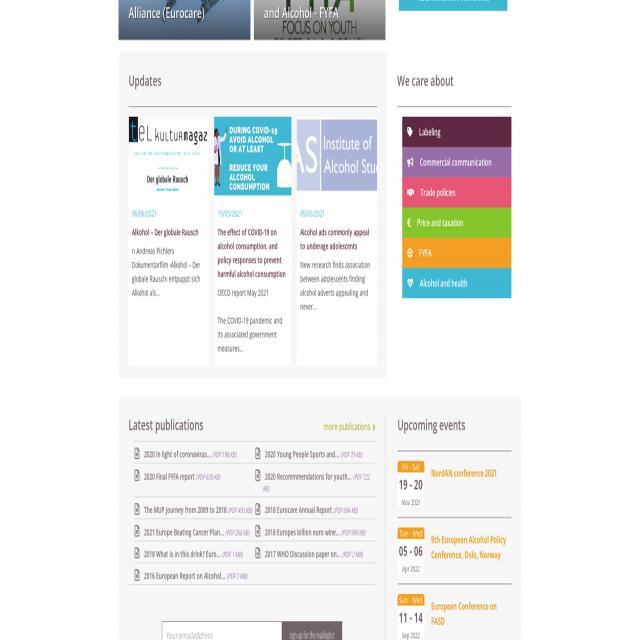button: (129, 117, 209, 195), (297, 117, 377, 195), (214, 117, 292, 195), (397, 590, 512, 640), (397, 461, 511, 508), (398, 528, 512, 575), (255, 0, 385, 40), (118, 0, 250, 39), (403, 207, 511, 238), (402, 117, 511, 147), (403, 268, 512, 298), (402, 238, 511, 267), (402, 148, 512, 176), (402, 179, 512, 207), (399, 0, 507, 11), (281, 621, 342, 640), (135, 447, 139, 459), (256, 447, 260, 459), (135, 503, 139, 515), (256, 503, 260, 515), (135, 470, 139, 481), (256, 470, 260, 481), (135, 525, 139, 536), (256, 525, 260, 536), (135, 547, 139, 558), (256, 547, 260, 558), (135, 569, 139, 580)
field: (162, 621, 281, 640)
